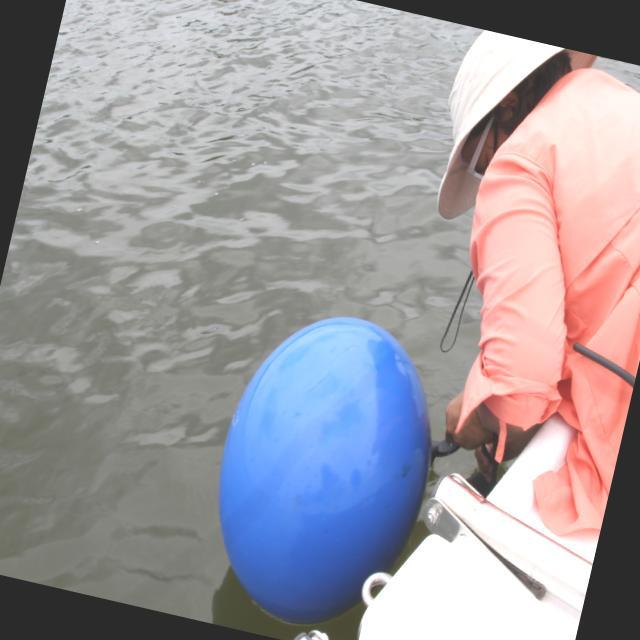buoy: (185, 285, 457, 640)
